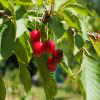Cherry leaf: (0, 19, 19, 63), (48, 11, 69, 45)
